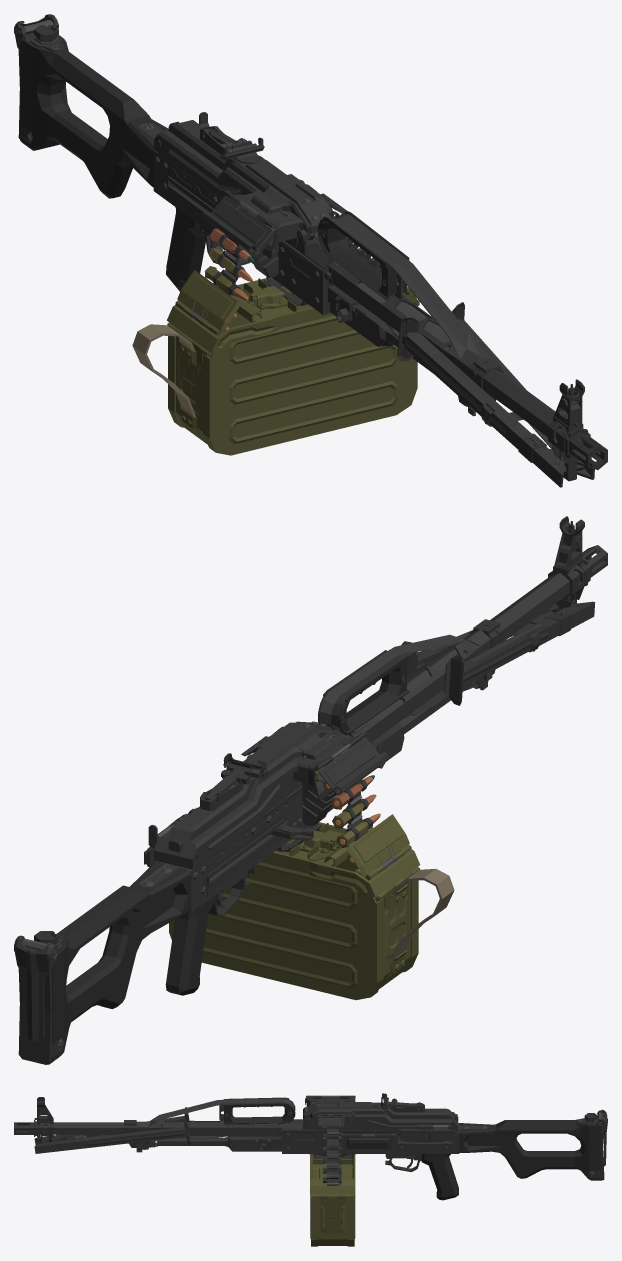
Rendered from machinegun.fbx.
3 views of the same model, one above another, from view 1: azimuth 30°, elevation 25°; view 2: azimuth 150°, elevation 25°; view 3: azimuth 270°, elevation 25° (orthographic). The views are drawn at different scales.
Parts seen in each view (by area): view 1: Object_461, Object_12, Object_377, Object_425, Object_441, Object_466, Object_428, Object_21, Object_429, Object_392, Object_470, Object_59 (+11 smaller); view 2: Object_461, Object_12, Object_377, Object_425, Object_466, Object_441, Object_21, Object_428, Object_59, Object_18, Object_4, Object_429 (+10 smaller); view 3: Object_12, Object_377, Object_21, Object_425, Object_435, Object_461, Object_428, Object_466, Object_24, Object_59, Object_429, Object_27 (+16 smaller).
Part boxes in pixels (x1,y1,x2,y2): Object_461: (168,312,417,455); Object_12: (20,35,168,198); Object_377: (154,120,331,236); Object_425: (323,231,583,443); Object_441: (397,317,564,487); Object_466: (167,278,419,356); Object_428: (323,213,484,366); Object_21: (138,123,330,314); Object_429: (318,211,409,300); Object_392: (202,195,274,253); Object_470: (175,270,240,335); Object_59: (166,207,205,291); Object_461: (169,859,418,1000); Object_12: (49,862,191,1064); Object_377: (154,721,360,869); Object_425: (342,571,579,742); Object_466: (262,822,420,901); Object_441: (444,601,595,705); Object_21: (138,786,333,912); Object_428: (319,629,488,733); Object_59: (165,894,216,995); Object_18: (157,810,321,916); Object_4: (14,935,58,1040); Object_429: (318,650,409,735); Object_12: (459,1118,601,1180); Object_377: (303,1099,458,1131); Object_21: (282,1123,489,1159); Object_425: (40,1120,281,1136); Object_435: (34,1119,190,1153); Object_461: (310,1156,355,1246); Object_428: (137,1098,294,1139); Object_466: (309,1154,355,1197); Object_24: (156,1136,281,1151); Object_59: (421,1154,458,1200); Object_429: (224,1097,295,1124); Object_27: (345,1134,391,1149).
Size of the model in its own units: 0.3082 by 0.2725 by 1.16.
